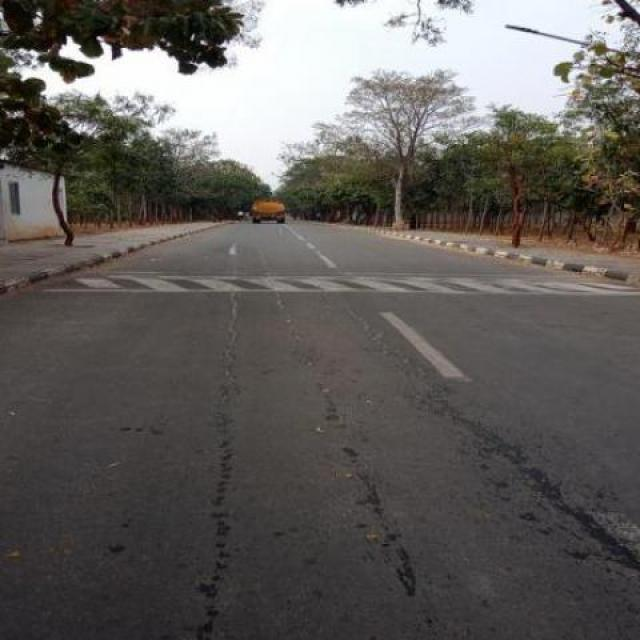Speed Bump: (36, 267, 639, 294)
